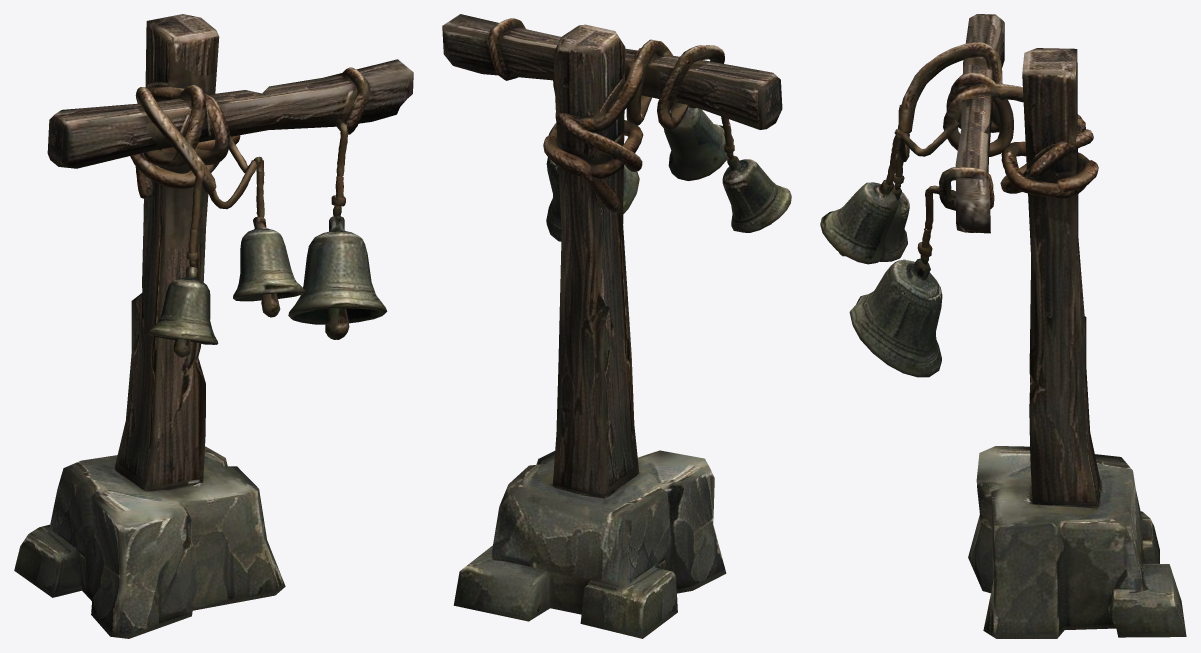
File: act1-a13-4-bell-post.glb
The picture shows the model from 3 angles, left to right: view 1: azimuth 30°, elevation 25°; view 2: azimuth 150°, elevation 25°; view 3: azimuth 270°, elevation 25°; orthographic projection. The views are drawn at different scales.
Visible parts, largest first — view 1: act1-a13-4-bell-post; view 2: act1-a13-4-bell-post; view 3: act1-a13-4-bell-post.
Part boxes in pixels (<box>): act1-a13-4-bell-post: <box>14,14,413,638</box>; act1-a13-4-bell-post: <box>442,14,791,638</box>; act1-a13-4-bell-post: <box>820,14,1186,638</box>.
Size of the model in its own units: 2.32 by 3.6 by 2.2.
1 material, 1 textured.
